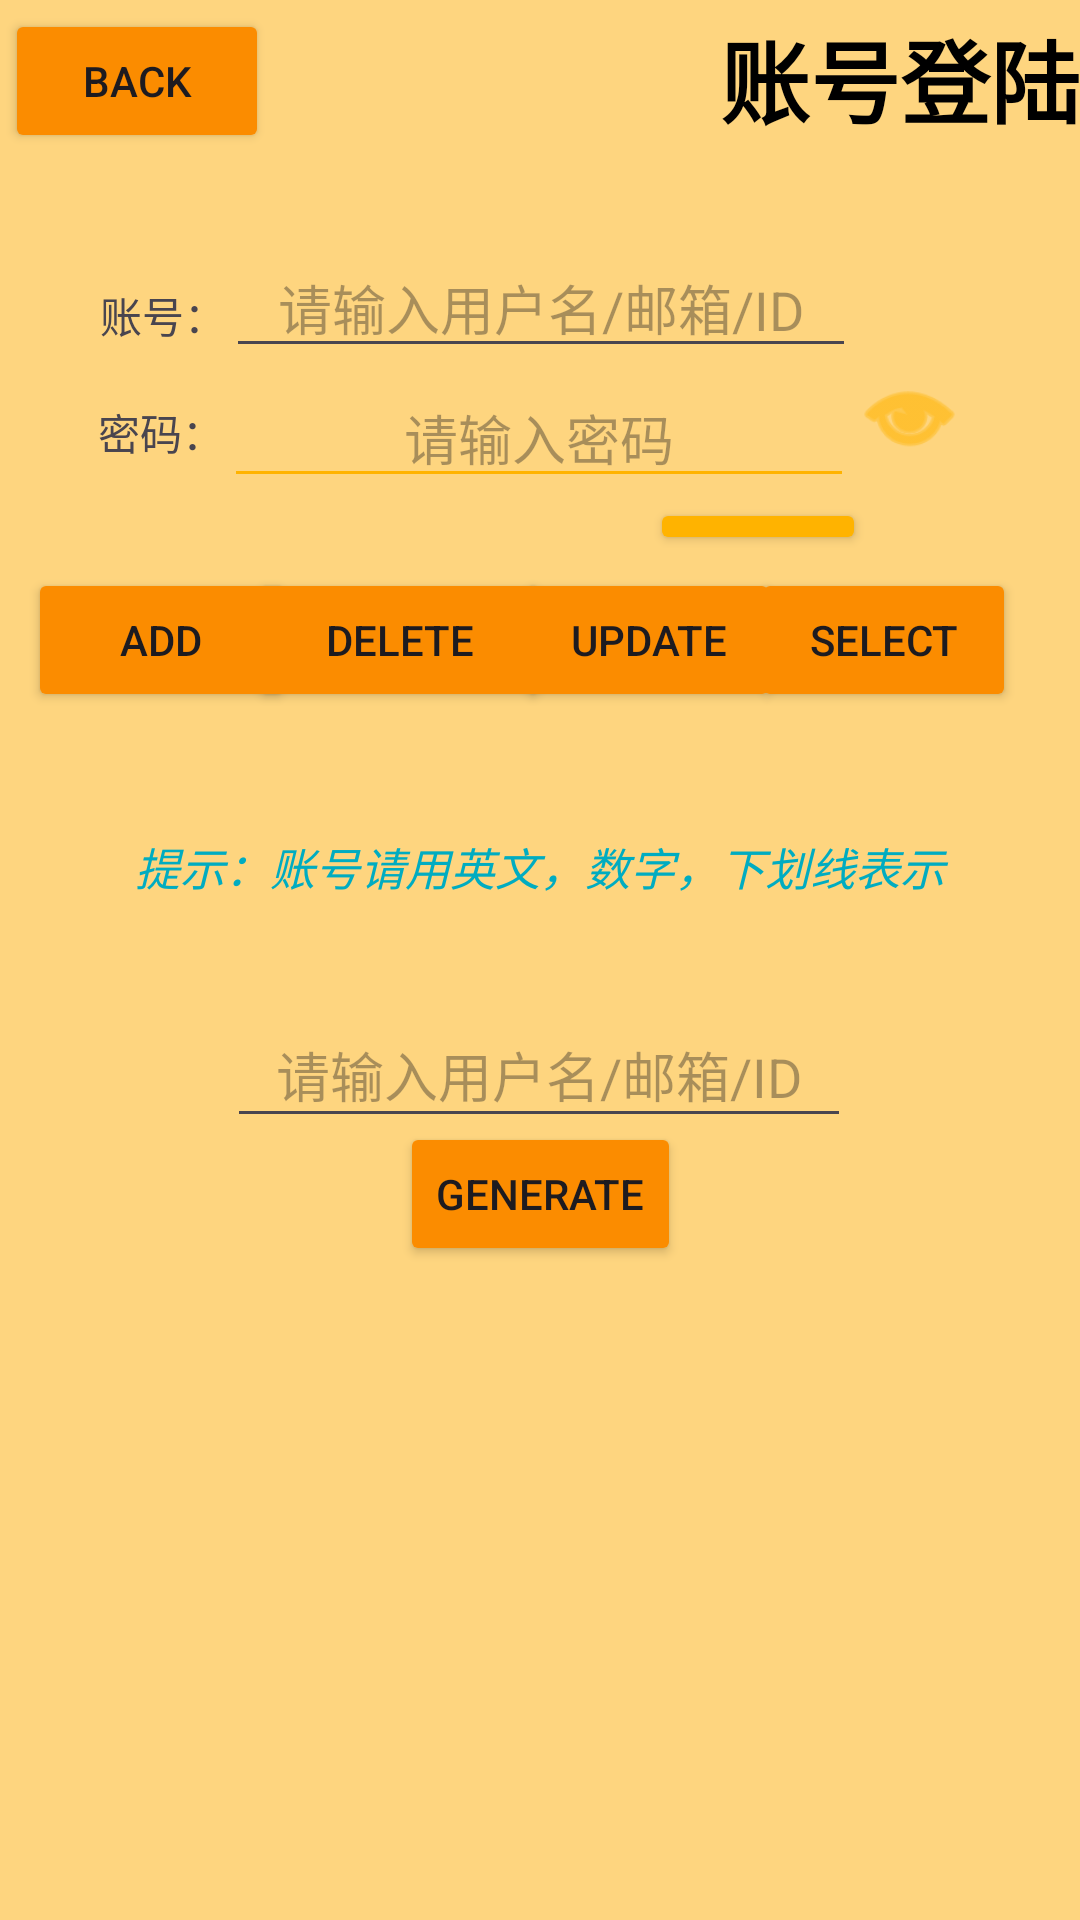

Point at icon controls on the screen. Image size 1080 × 1920, points as [x,y].
view: [909,418]
